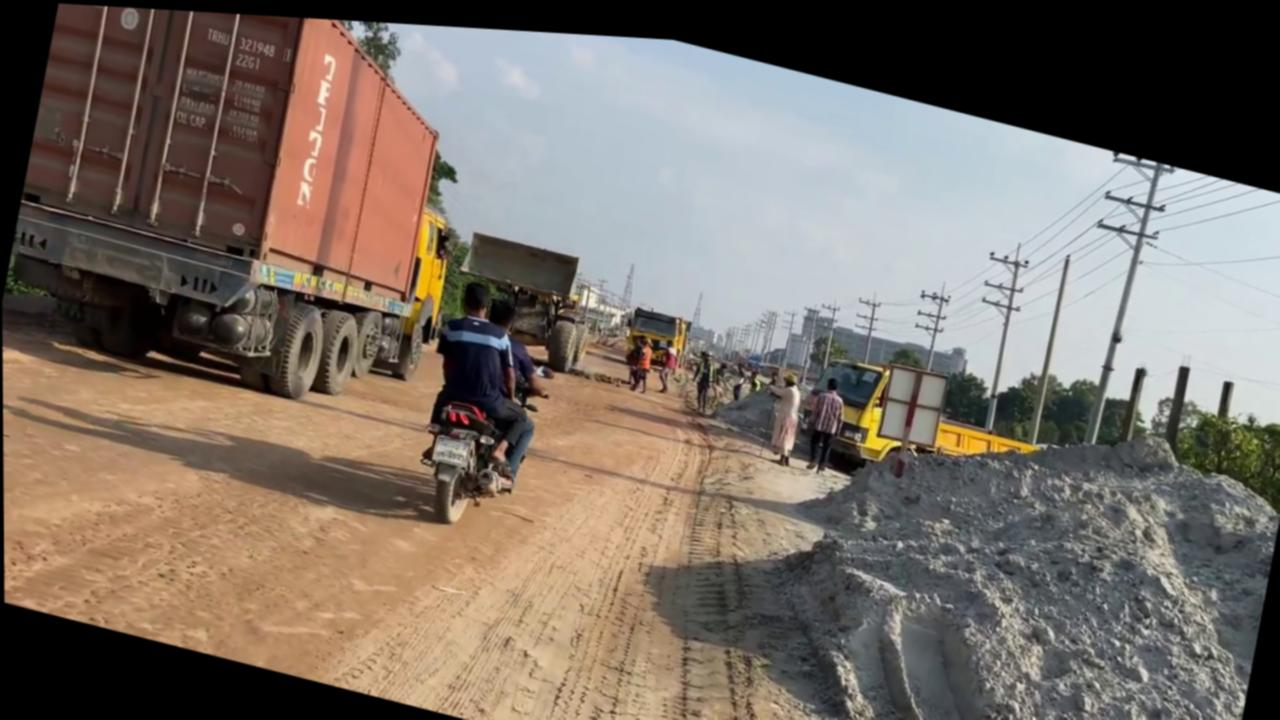Motorcycle: (405, 350, 550, 538)
Muddy road: (1, 179, 1277, 720)
Pole: (1024, 236, 1073, 434)
Tree: (0, 0, 491, 429), (791, 327, 1054, 499), (443, 219, 602, 370), (618, 294, 693, 363)
